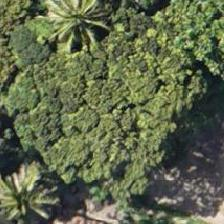coconut_tree: (29, 0, 119, 66), (0, 157, 61, 223)
